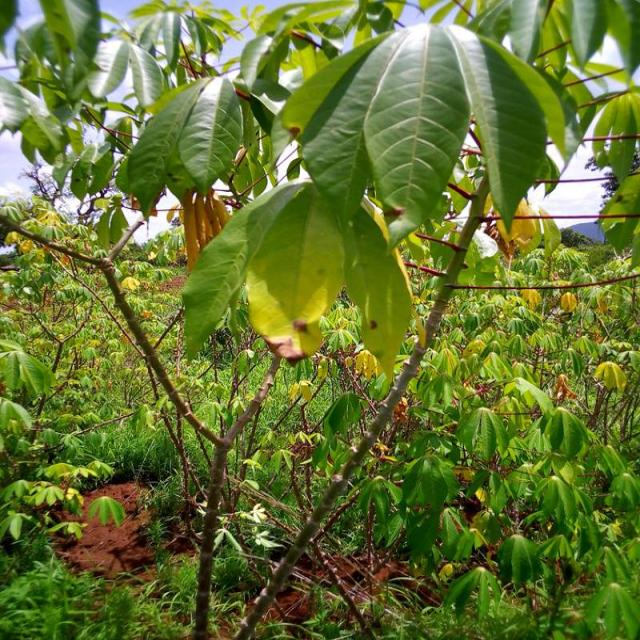cassava leaf: (280, 21, 569, 250), (182, 177, 414, 394), (116, 74, 245, 218)
